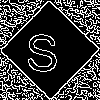S: (25, 25, 59, 72)
